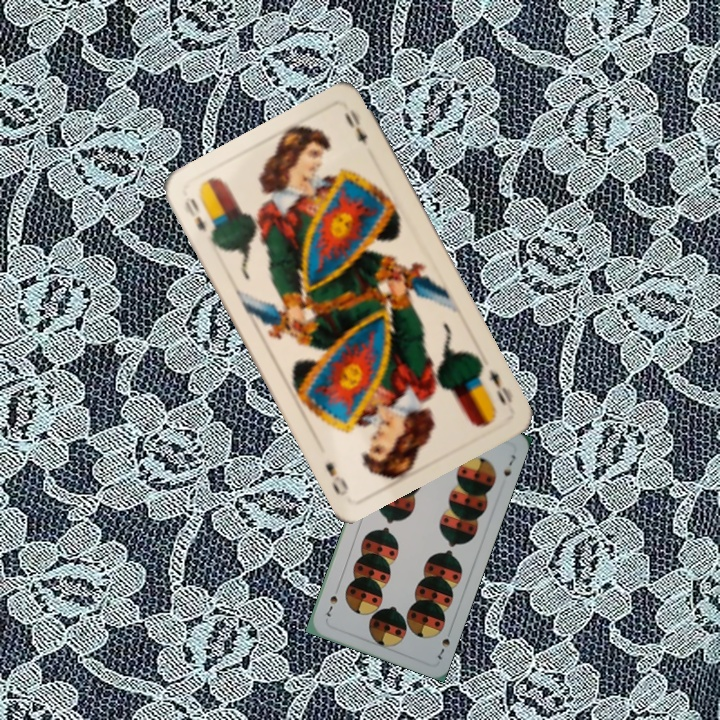EO: (484, 364, 516, 408), (180, 193, 210, 235)
S7: (432, 624, 454, 662)
